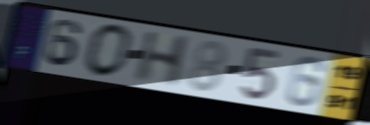5: (237, 45, 285, 102)
6: (285, 55, 326, 108), (44, 19, 82, 69)
8: (185, 39, 230, 94)
H: (132, 30, 194, 89)
O: (83, 22, 136, 79)
